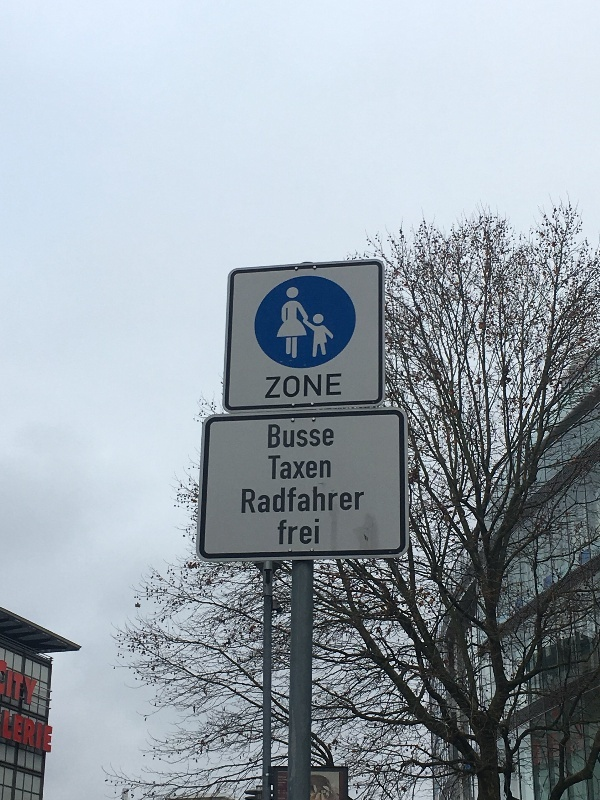text: (1, 659, 16, 706), (17, 659, 32, 706), (17, 710, 32, 753), (33, 710, 48, 753), (4, 710, 16, 753), (257, 485, 272, 514), (273, 485, 288, 514), (289, 485, 304, 514), (305, 485, 320, 514), (321, 485, 336, 514), (337, 485, 352, 514), (289, 518, 304, 545), (305, 518, 319, 545), (243, 485, 256, 514), (273, 455, 288, 480), (289, 455, 304, 480), (305, 455, 320, 480), (273, 424, 288, 449), (289, 424, 304, 449), (305, 424, 320, 449), (273, 374, 288, 399), (289, 374, 304, 399), (305, 374, 320, 399), (321, 374, 336, 399), (353, 485, 365, 514), (321, 424, 334, 449), (278, 518, 288, 545), (321, 455, 331, 480), (33, 659, 38, 706), (49, 710, 53, 753), (337, 374, 343, 399), (267, 374, 272, 399), (268, 455, 272, 480), (269, 424, 272, 449)
